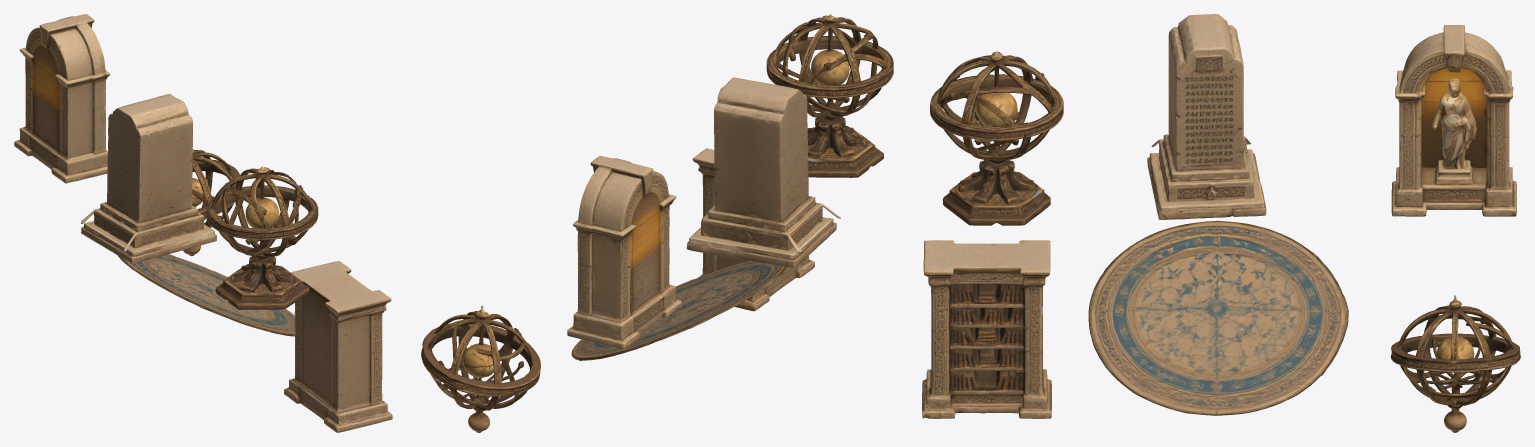
File: المكتبة الكبرى l1.glb
3 views of the same model, side by side, from view 1: azimuth 30°, elevation 25°; view 2: azimuth 150°, elevation 25°; view 3: azimuth 270°, elevation 25° (orthographic). The views are drawn at different scales.
Parts seen in each view (by area): view 1: world; view 2: world; view 3: world.
Part boxes in pixels (x1,y1,x2,y2): world: (14, 14, 392, 432); world: (421, 14, 893, 432); world: (922, 14, 1520, 432).
Size of the model in its own units: 0.5608 by 0.5902 by 0.9998.
1 material, 1 textured.
